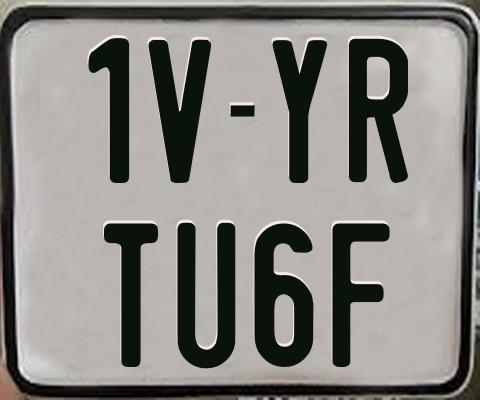1: (88, 38, 131, 187)
6: (252, 222, 312, 369)
F: (332, 221, 394, 371)
R: (349, 36, 412, 186)
T: (103, 223, 159, 368)
U: (176, 223, 240, 371)
V: (146, 39, 214, 182)
Y: (269, 38, 328, 187)
